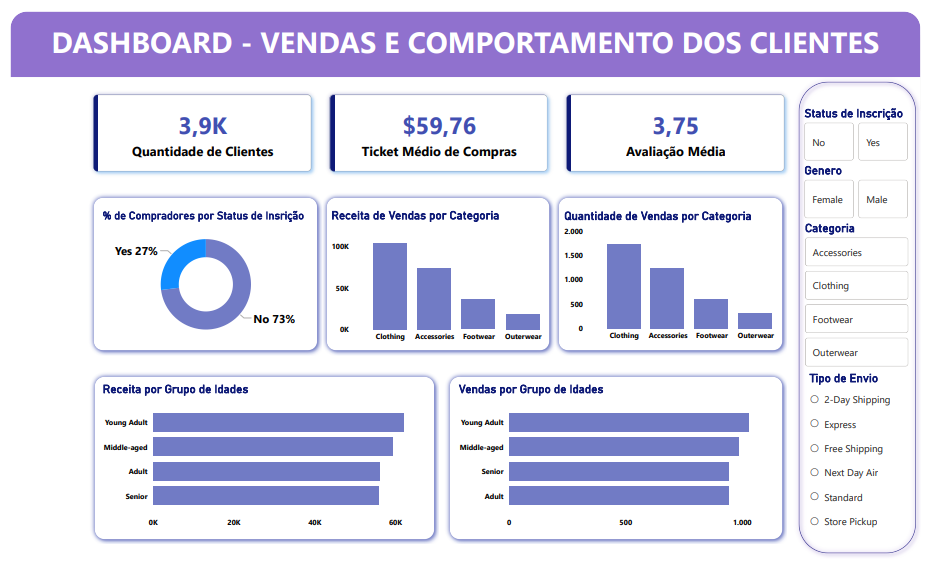

The page's visual inventory and layout, read from the dashboard file:
{"tool":"powerbi","page":{"name":"Página 1","canvas":[1500,900],"ordinal":0},"visuals":[{"type":"cardVisual","fields":{"Data":["public customer.Number of Customers","public customer.Average Purchase Amount","public customer.Average Review Rating"]},"box":[108,108,1196,184],"z":0},{"type":"shape","box":[0,0,1500,108],"z":1000},{"type":"textbox","box":[0,11.8,1500,84.4],"z":2000},{"type":"shape","box":[512.8,298.3,383.5,267.4],"z":3000},{"type":"clusteredColumnChart","title":"Receita de Vendas por Categoria","fields":{"Y":["Sum(public customer.purchase_amount)"],"Category":["public customer.category"]},"box":[524.3,324.3,384.3,228.6],"z":4000},{"type":"shape","box":[896.3,298.3,383.5,267.4],"z":5000},{"type":"clusteredColumnChart","title":"Quantidade de Vendas por Categoria","fields":{"Category":["public customer.category"],"Y":["CountNonNull(public customer.customer_id)"]},"box":[908.1,324.7,383.5,227.8],"z":6000},{"type":"shape","box":[129.3,298.3,383.5,267.4],"z":7000},{"type":"donutChart","title":"% de Compradores por Status de Insrição","fields":{"Category":["public customer.subscription_status"],"Y":["Count(public customer.customer_id)"]},"box":[146.9,324.7,349.7,227.8],"z":8000},{"type":"shape","box":[1291.2,108.4,209.4,791.6],"z":9000},{"type":"advancedSlicerVisual","title":"Status de Inscrição","fields":{"Values":["public customer.subscription_status"]},"box":[1304.3,155.7,181.4,94.3],"z":10000},{"type":"advancedSlicerVisual","title":"Genero","fields":{"Values":["public customer.gender"]},"box":[1304.3,250,181.4,95.7],"z":11000},{"type":"advancedSlicerVisual","title":"Categoria","fields":{"Values":["public customer.category"]},"box":[1305,345,180,246.7],"z":12000},{"type":"listSlicer","title":"Tipo de Envio","fields":{"Values":["public customer.shipping_type"]},"box":[1311.7,591.7,170,275],"z":13000},{"type":"shape","box":[130,592,576,284],"z":14000},{"type":"clusteredBarChart","title":"Receita por Grupo de Idades","fields":{"Y":["Sum(public customer.purchase_amount)"],"Category":["public customer.age_group"]},"box":[147.1,610,570,248.6],"z":15000},{"type":"shape","box":[716,592,564,284],"z":16000},{"type":"clusteredBarChart","title":"Vendas por Grupo de Idades","fields":{"Y":["CountNonNull(public customer.customer_id)"],"Category":["public customer.age_group"]},"box":[734.3,610,570,248.6],"z":17000}]}

Visuals, with their boxes in screenshot pixels (x1, y1, x2, y2), scaled from the page's 1500x900 canvas onto the 929x566 screenshot:
cardVisual - public customer.Number of Customers x public customer.Average Purchase Amount: <bbox>67, 68, 808, 184</bbox>
shape: <bbox>0, 0, 928, 68</bbox>
textbox: <bbox>0, 7, 928, 60</bbox>
shape: <bbox>318, 188, 555, 356</bbox>
"Receita de Vendas por Categoria" clusteredColumnChart: <bbox>325, 204, 563, 348</bbox>
shape: <bbox>555, 188, 793, 356</bbox>
"Quantidade de Vendas por Categoria" clusteredColumnChart: <bbox>562, 204, 800, 347</bbox>
shape: <bbox>80, 188, 318, 356</bbox>
"% de Compradores por Status de Insrição" donutChart: <bbox>91, 204, 308, 347</bbox>
shape: <bbox>800, 68, 928, 565</bbox>
"Status de Inscrição" advancedSlicerVisual: <bbox>808, 98, 920, 157</bbox>
"Genero" advancedSlicerVisual: <bbox>808, 157, 920, 217</bbox>
"Categoria" advancedSlicerVisual: <bbox>808, 217, 920, 372</bbox>
"Tipo de Envio" listSlicer: <bbox>812, 372, 918, 545</bbox>
shape: <bbox>81, 372, 437, 551</bbox>
"Receita por Grupo de Idades" clusteredBarChart: <bbox>91, 384, 444, 540</bbox>
shape: <bbox>443, 372, 793, 551</bbox>
"Vendas por Grupo de Idades" clusteredBarChart: <bbox>455, 384, 808, 540</bbox>
